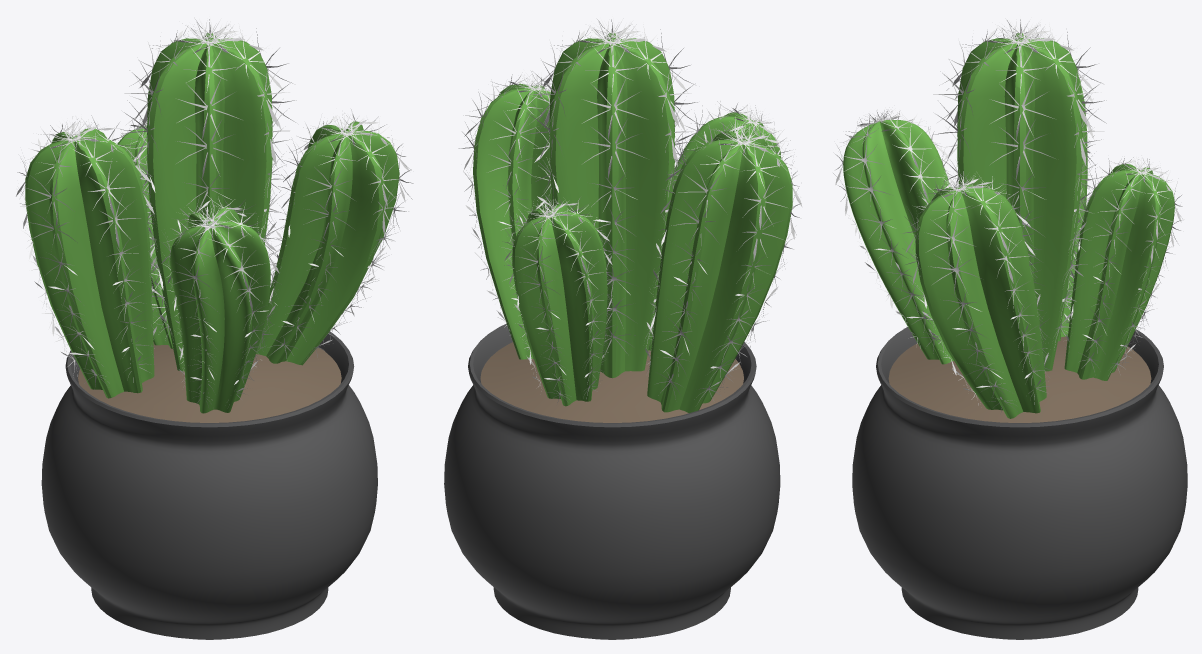
The model's file is sh_blend_swap_cc_0_cactus.glb.
3 views of the same model, side by side, from view 1: azimuth 30°, elevation 25°; view 2: azimuth 150°, elevation 25°; view 3: azimuth 270°, elevation 25° (orthographic).
Size of the model in its own units: 0.148 by 0.225 by 0.128.
